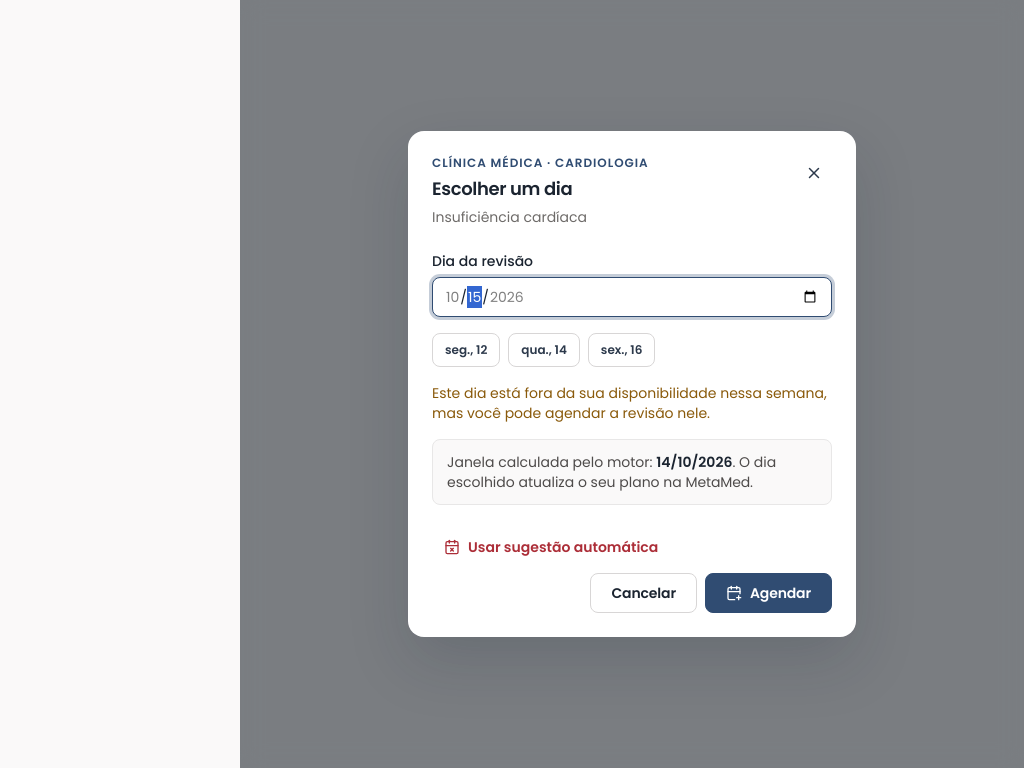
Scenario: ScheduleReviewModal › only offers days with room as shortcuts and warns about other days
Expected: the text "fora da sua disponibilidade" is shown, 432,383 -> 827,423
Click the button "qua., 14": click(544, 350) 508,333 -> 580,367
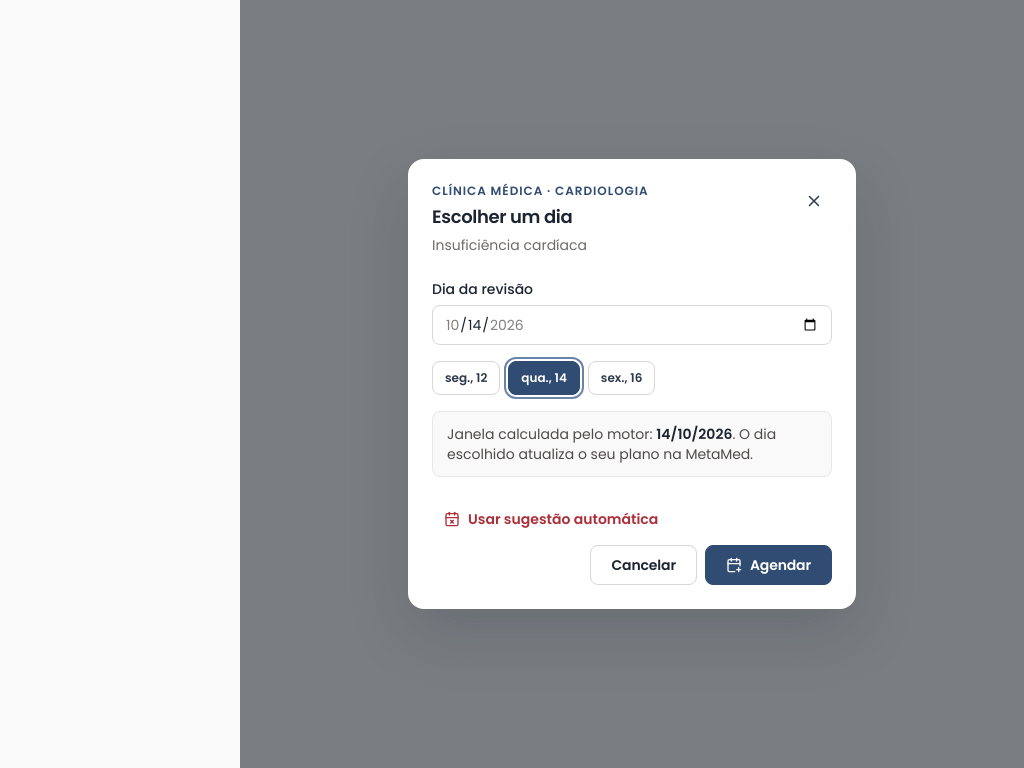
Result: the text "fora da sua disponibilidade" is gone
